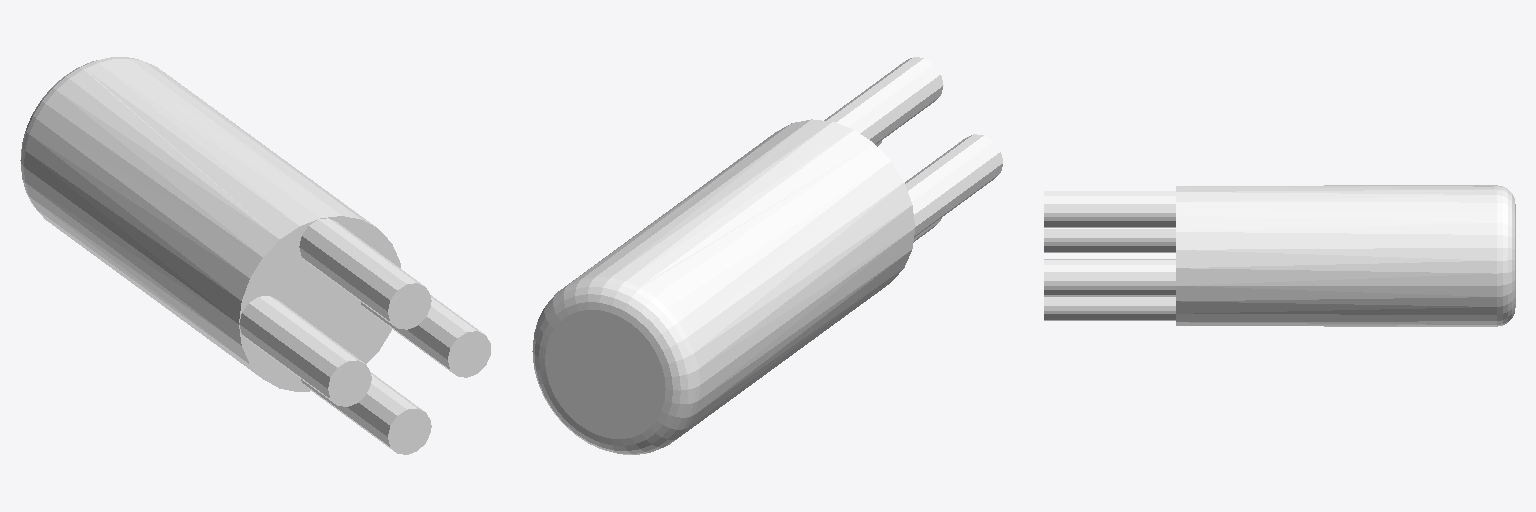
The robot description file, URDF, robot "fen_li":
<robot
  name="fen_li">
  <link
    name="fen_li">
    <inertial>
      <origin
        xyz="7.446E-16 -1.0299 6.10863041900833E-17"
        rpy="0 0 0" />
      <mass
        value="878.42" />
      <inertia
        ixx="368.416197809351"
        ixy="-7.33154109517443E-13"
        ixz="2.02177266091369E-16"
        iyy="62.3173116501548"
        iyz="1.79270761733691E-14"
        izz="368.416197809351" />
    </inertial>
    <visual>
      <origin
        xyz="0 0 0"
        rpy="1.5707963267949 0 0" />
      <geometry>
        <mesh
          filename="package://fen_li/meshes/fen_li.STL" />
      </geometry>
      <material
        name="">
        <color
          rgba="1 1 1 1" />
      </material>
    </visual>
    <collision>
      <origin
        xyz="0 0 0"
        rpy="1.5707963267949 0 0" />
      <geometry>
        <mesh
          filename="package://fen_li/meshes/fen_li.STL" />
      </geometry>
    </collision>
  </link>
</robot>

--- What the picture shows (computed from the rendered views, not written in the file) ---
Views: 3 orthographic renders of the robot side by side, from view 1: azimuth 30°, elevation 25°; view 2: azimuth 150°, elevation 25°; view 3: azimuth 270°, elevation 25°.
Model fen_li with 1 links and 0 joints (none), rooted at fen_li, posed every joint at zero.
Visible links, largest first — view 1: fen_li; view 2: fen_li; view 3: fen_li.
Boxes of the visible links, left/top/right/bottom form: fen_li: left=20, top=57, right=490, bottom=454; fen_li: left=532, top=57, right=1002, bottom=454; fen_li: left=1044, top=185, right=1515, bottom=326.
Size in the robot's own frame: 0.75 by 2.5 by 0.75 metres.
1 mesh visuals loaded from 1 distinct referenced files (1 binary STL).
